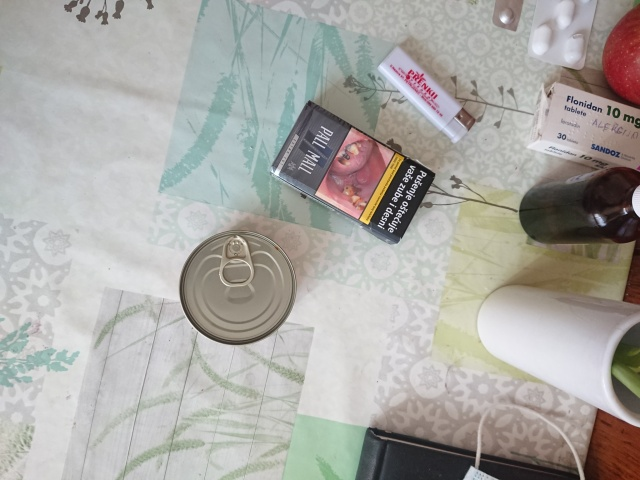Gavrilovic Pork Liver Pate 100g: (175, 225, 299, 348)
